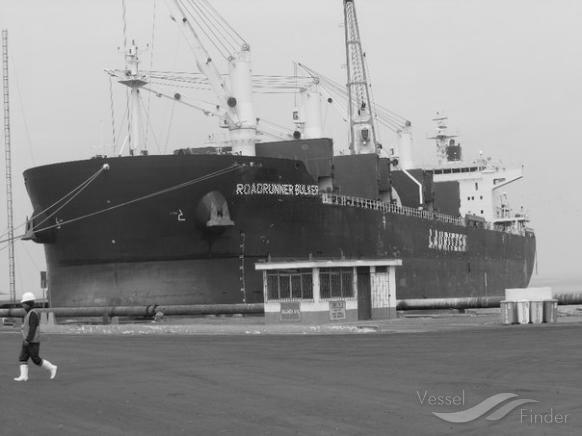OCR: (226, 174, 318, 204), (422, 223, 474, 255)
